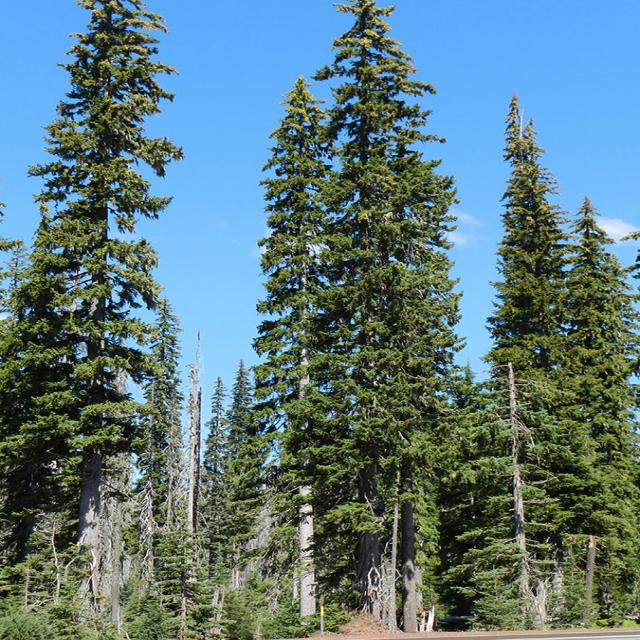Pseudotsuga menziesii: (21, 0, 188, 612), (304, 0, 466, 615), (485, 90, 574, 640), (548, 186, 636, 559)
